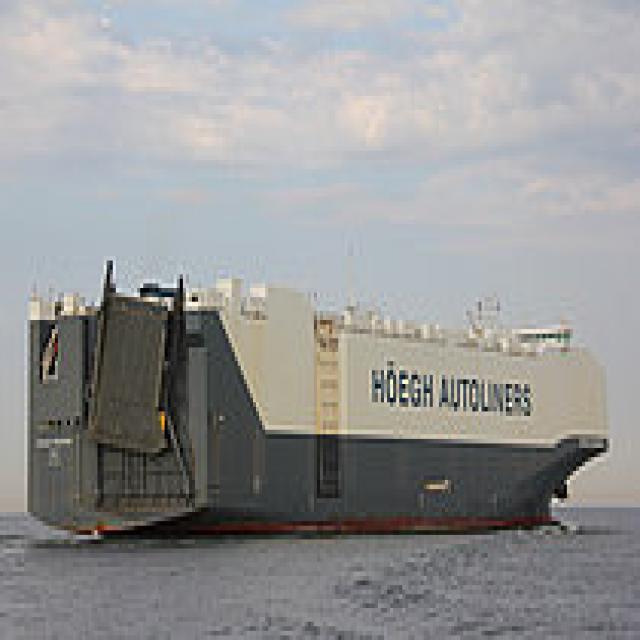Carrier: (21, 252, 612, 540)
